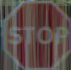Stop: (5, 6, 65, 61)
